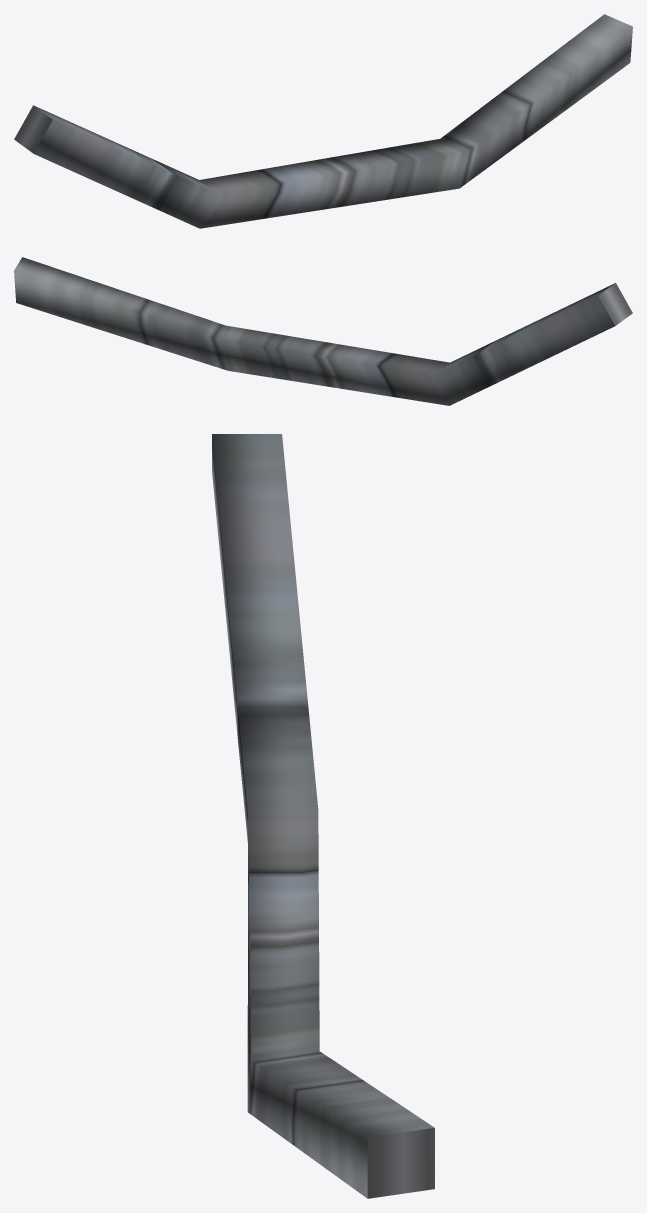
Rendered from tie_fighter_debris_e_l0.fbx.
The picture shows the model from 3 angles, top to bottom: view 1: azimuth 30°, elevation 25°; view 2: azimuth 150°, elevation 25°; view 3: azimuth 270°, elevation 25°; orthographic projection. The views are drawn at different scales.
Visible parts, largest first — view 1: mesh_node; view 2: mesh_node; view 3: mesh_node.
Boxes of the visible parts, x1=… form: mesh_node: x1=14, y1=14, x2=632, y2=228; mesh_node: x1=14, y1=257, x2=632, y2=405; mesh_node: x1=212, y1=434, x2=434, y2=1198.
Bounding box in the file's own units: 1.63 × 0.4301 × 0.275.
Materials: 1 (1 with a texture image).
